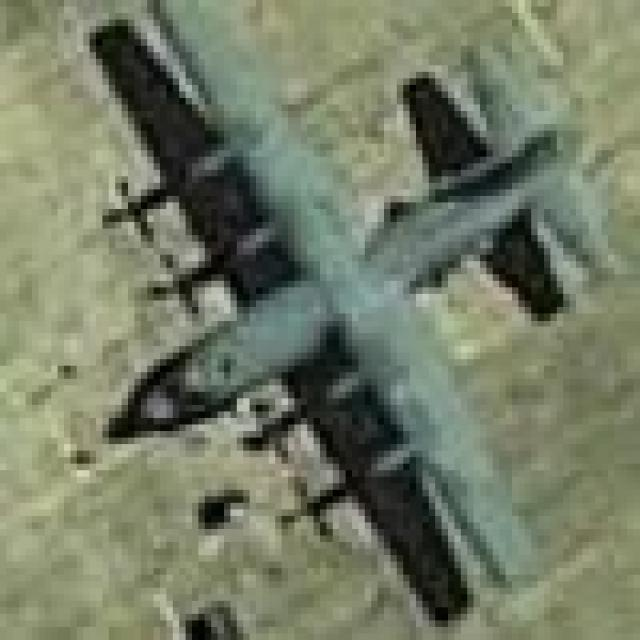C-130_TopDown: (76, 0, 614, 620)
